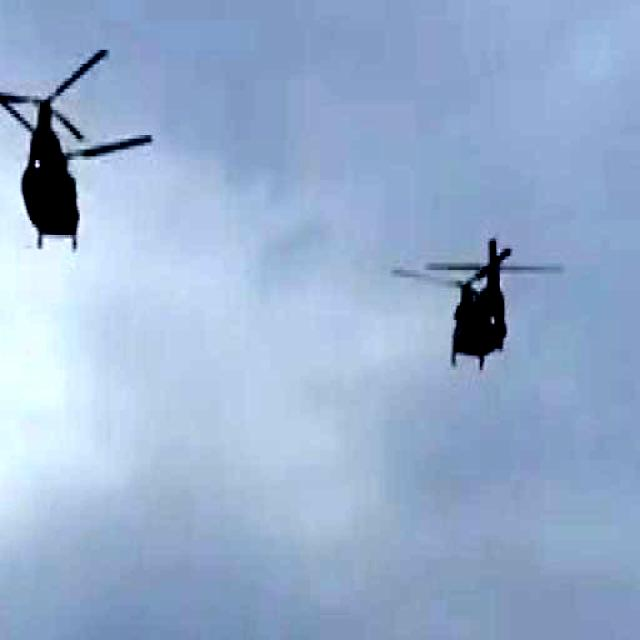drone: (0, 34, 150, 251), (391, 222, 558, 365)
